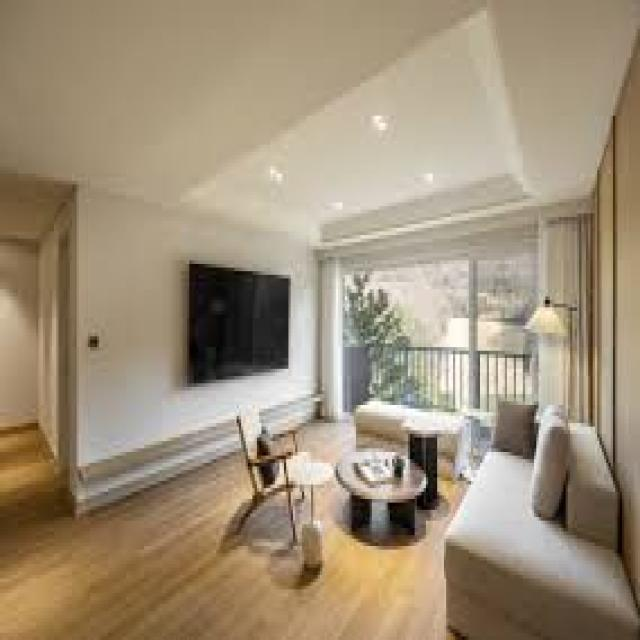Chair: (233, 404, 332, 550)
Sofa: (443, 400, 638, 640)
Table: (336, 439, 428, 539)
tv: (185, 259, 292, 381)
window: (326, 251, 544, 382)
